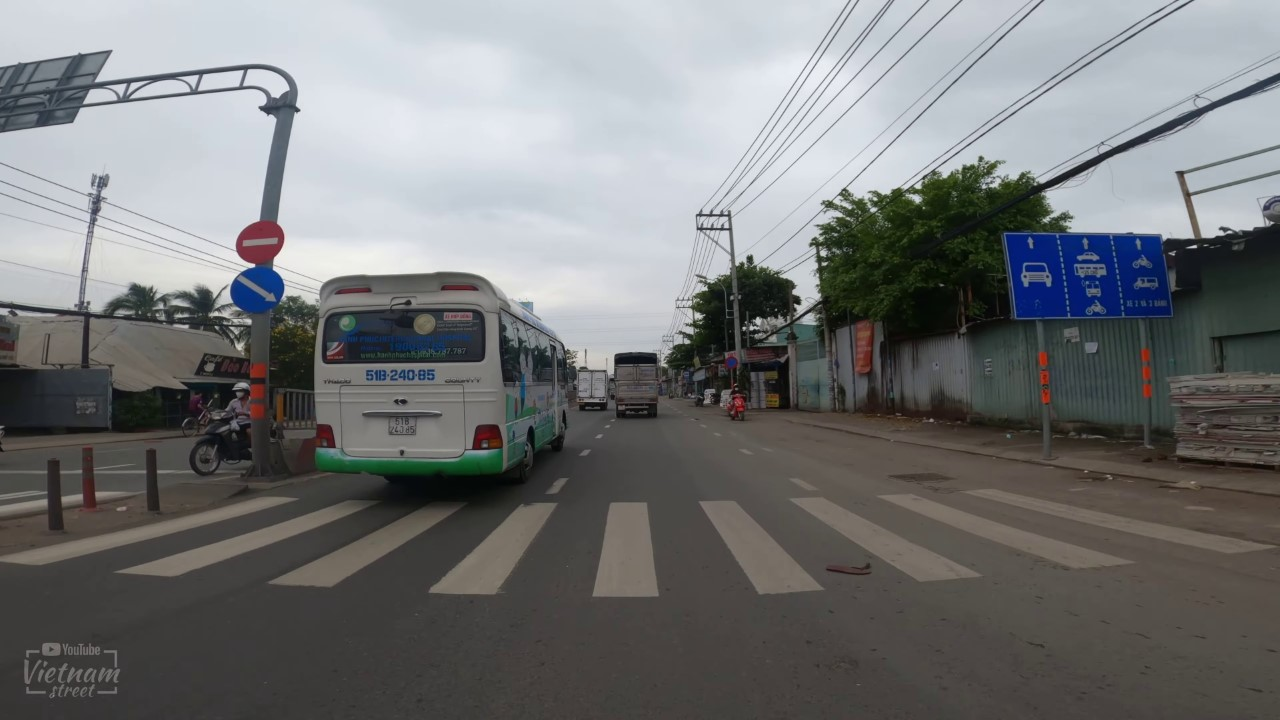cam_nguoc_chieu: (233, 217, 286, 265)
huong_phai_di_vong: (228, 264, 284, 317)
